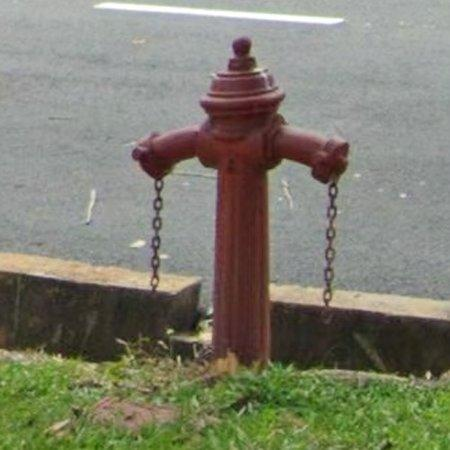a fire hydrant: (132, 38, 350, 364)
